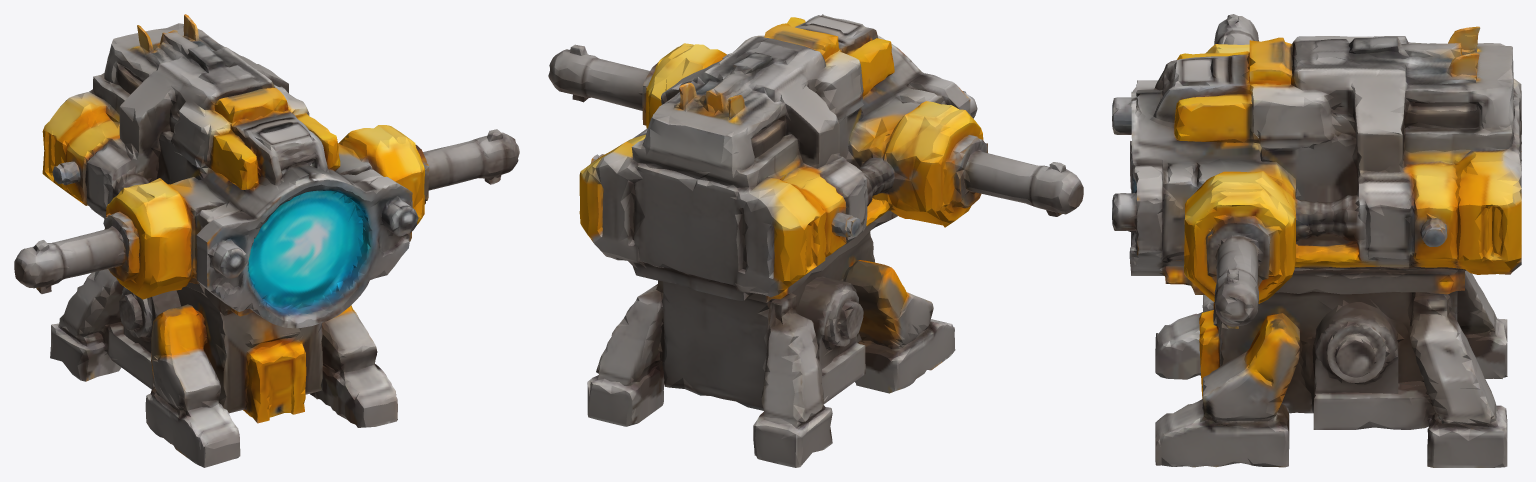
File: nova_weapon_secondary.glb
The picture shows the model from 3 angles, left to right: view 1: azimuth 30°, elevation 25°; view 2: azimuth 150°, elevation 25°; view 3: azimuth 270°, elevation 25°; orthographic projection. The views are drawn at different scales.
Parts seen in each view (by area): view 1: nova_weapon_secondary; view 2: nova_weapon_secondary; view 3: nova_weapon_secondary.
Boxes of the visible parts, x1,y1,x2,y2 form: nova_weapon_secondary: [14, 14, 519, 467]; nova_weapon_secondary: [548, 14, 1083, 467]; nova_weapon_secondary: [1112, 14, 1521, 467].
Bounding box in the file's own units: 1.89 × 1.17 × 1.17.
Materials: 1 (1 with a texture image).
